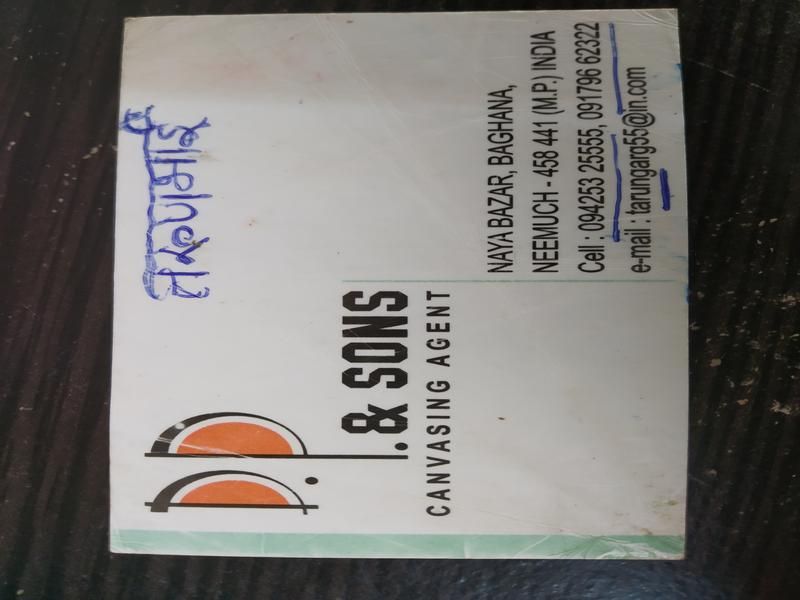card: (106, 10, 686, 558)
